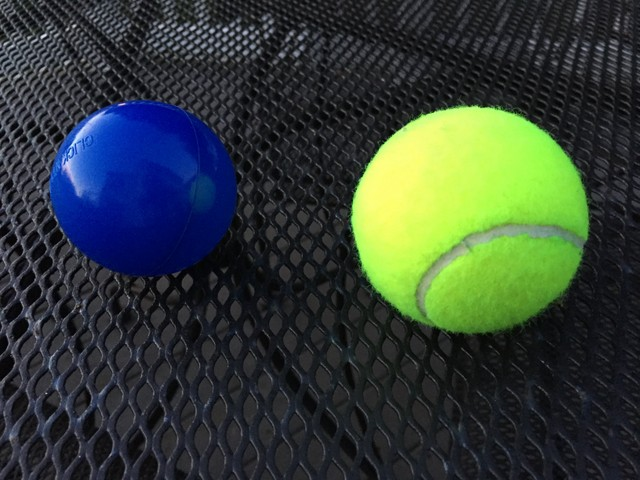Ball: (50, 102, 237, 272)
